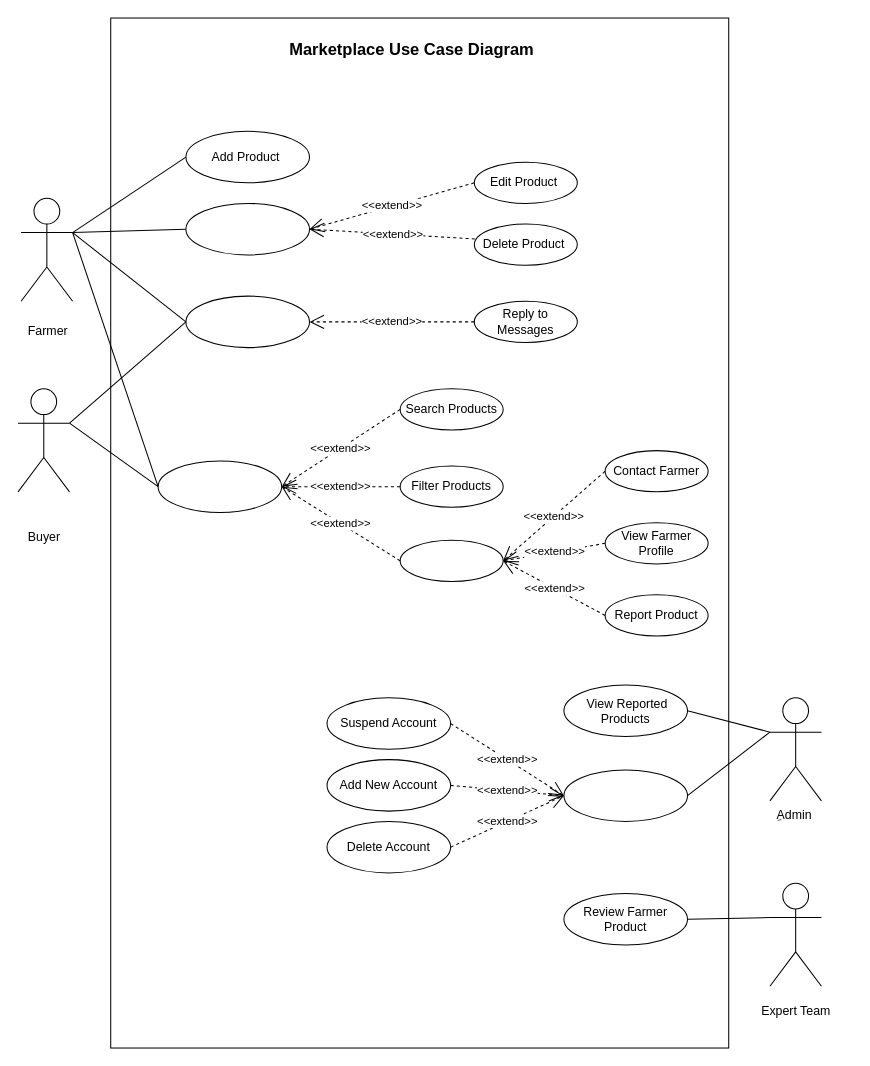
The diagram is 870 pixels wide and 1066 high, and some of its shapes have lost their labels. Here are the shapes that lost their labels. From the top down, the centre of each, then its label:
At point (247, 228): "View my Products".
At point (247, 321): "View Messages".
At point (219, 486): "Browse Products".
At point (451, 560): "View Product Details".
At point (625, 795): "Manage User Accounts".
